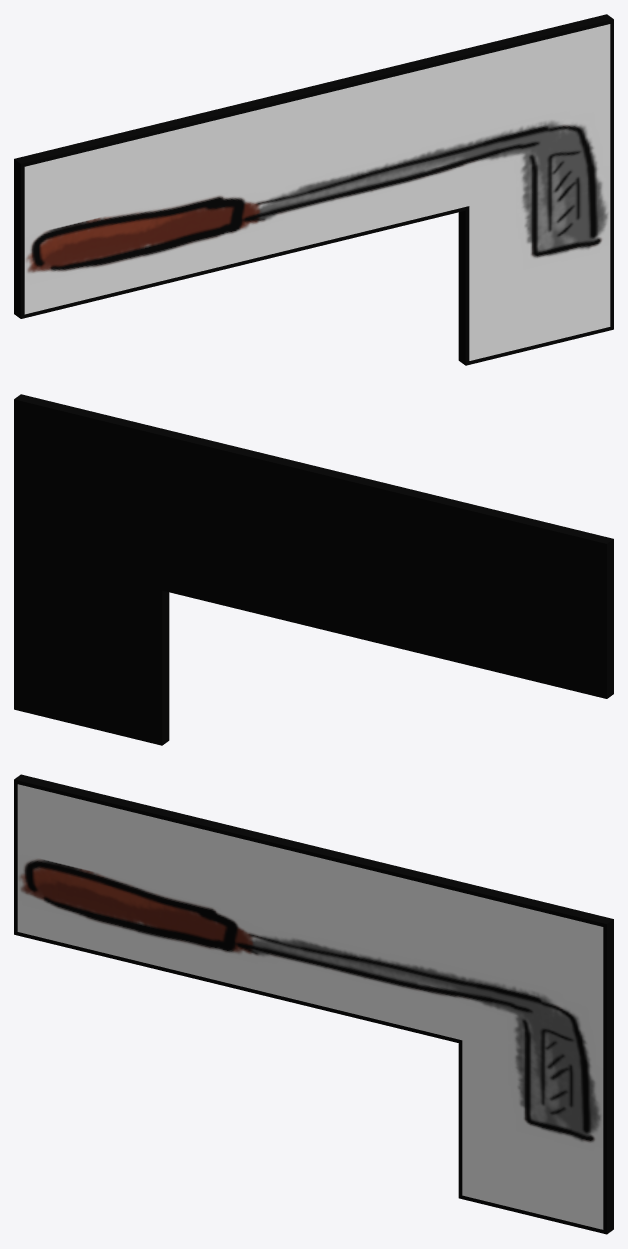
The model's file is mdl_poland_fiat_item2.gltf.
3 views of the same model, one above another, from view 1: azimuth 30°, elevation 25°; view 2: azimuth 150°, elevation 25°; view 3: azimuth 330°, elevation 25° (orthographic).
Visible parts, largest first — view 1: Plane.002; view 2: Plane.002; view 3: Plane.002.
Boxes of the visible parts, box(x1,y1,x2,y2) form: Plane.002: box(14, 14, 613, 365); Plane.002: box(14, 394, 613, 745); Plane.002: box(14, 774, 613, 1234).
Size of the model in its own units: 1.6 by 0.8 by 0.0326.
2 materials, 2 textured.
